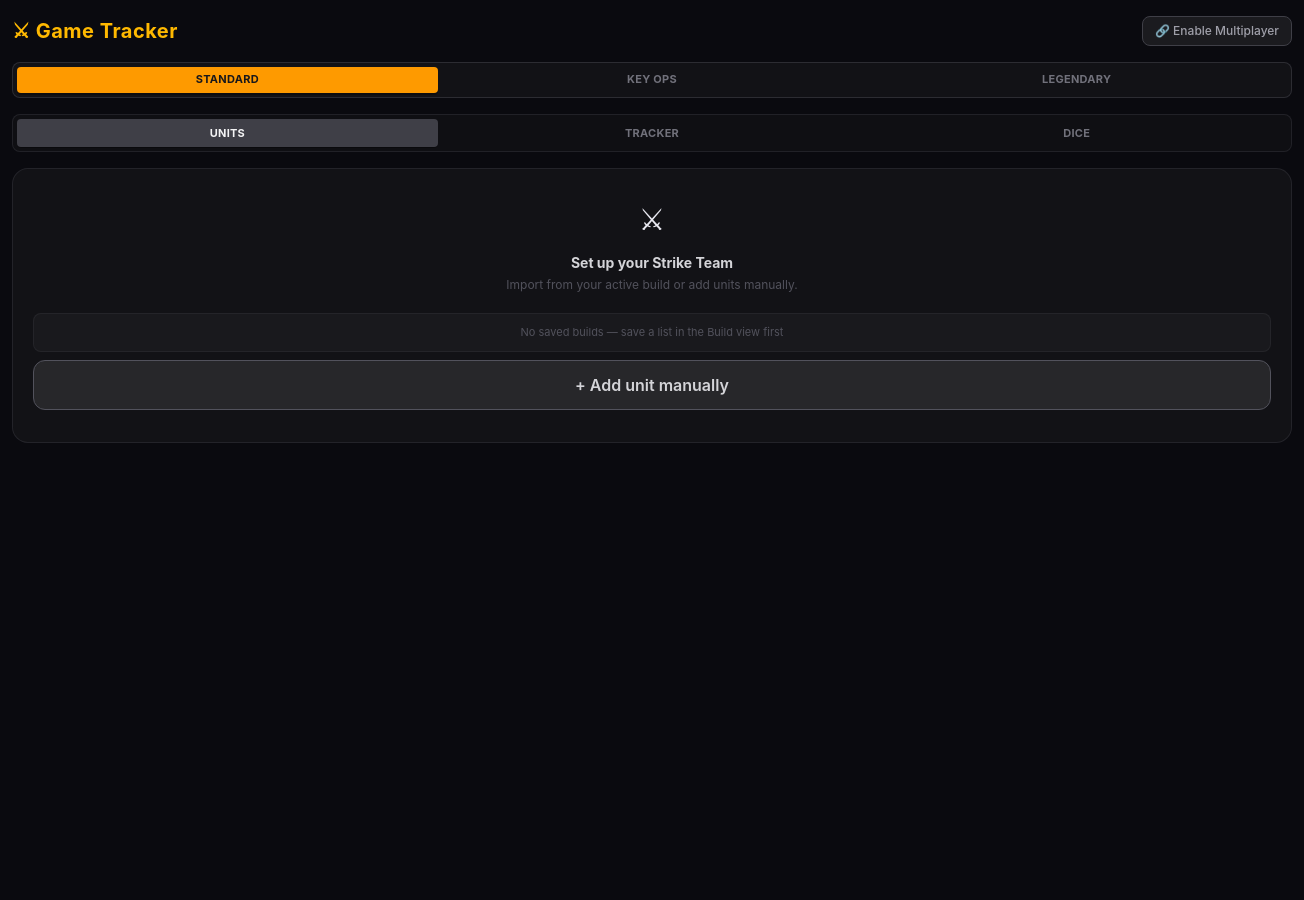
PlayView › mission picker (State A — no mission selected) › shows mission name and prev/next buttons when missions are loaded
Click the button "Tracker" at (652, 133), box [442,119,862,147]
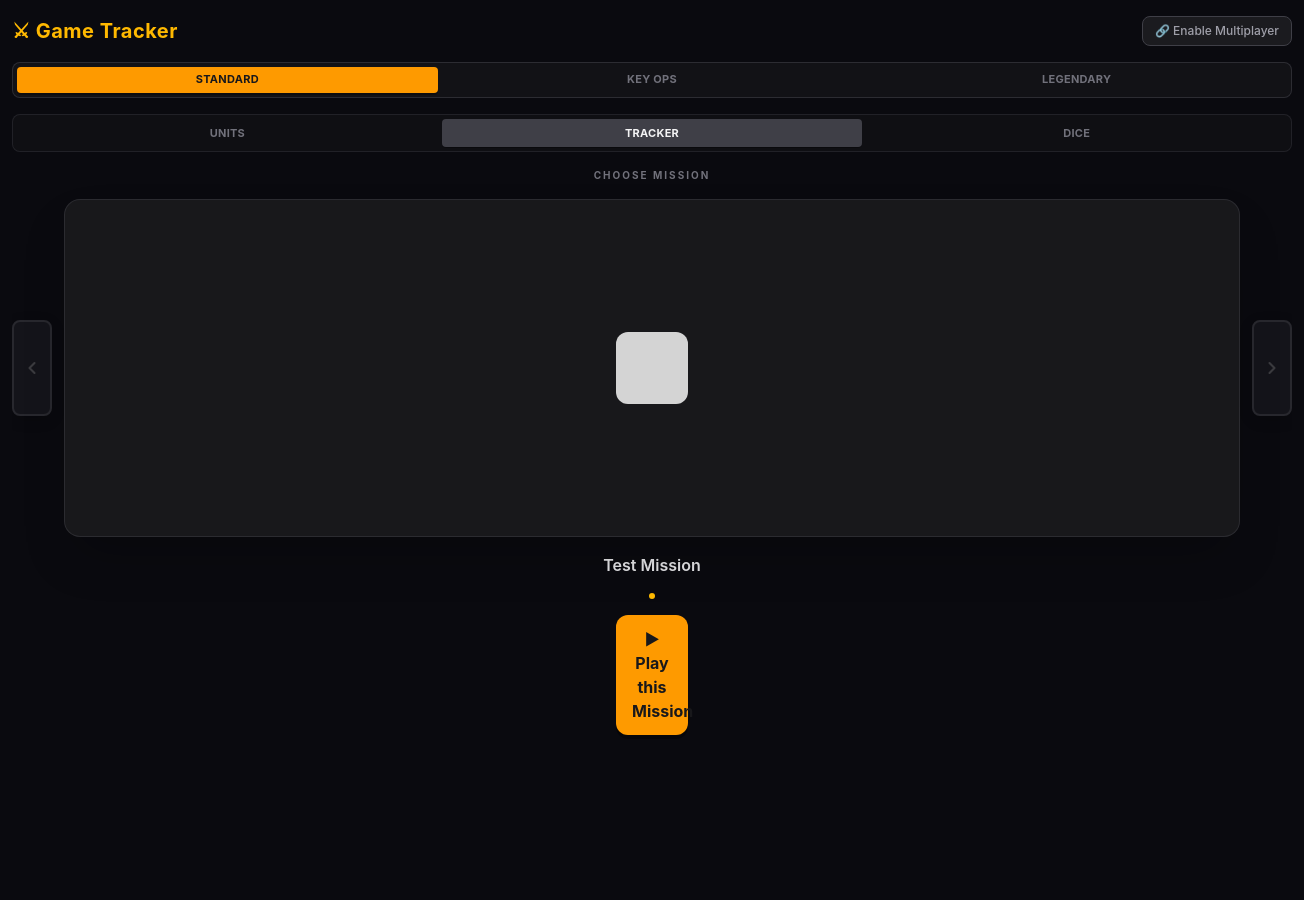
Now the text "Test Mission" is shown, box [603,555,701,575]
